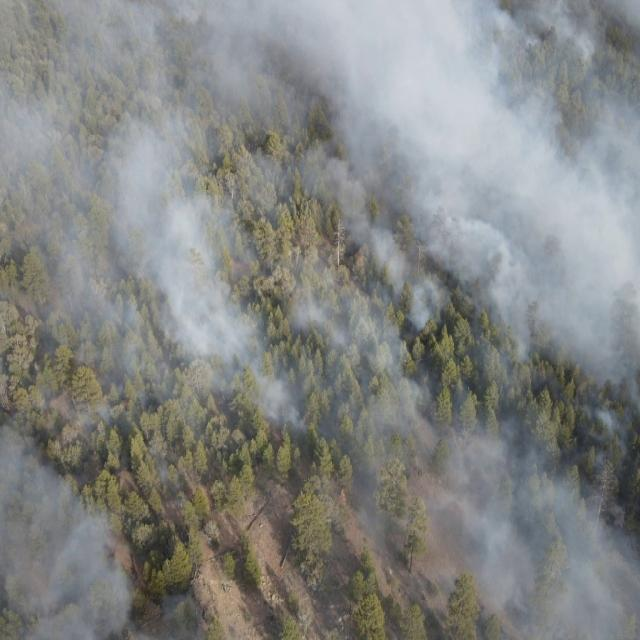fire: (348, 247, 363, 266), (119, 398, 132, 410)
smoke: (0, 0, 640, 342), (319, 342, 640, 639), (0, 425, 133, 640), (94, 343, 319, 455)
